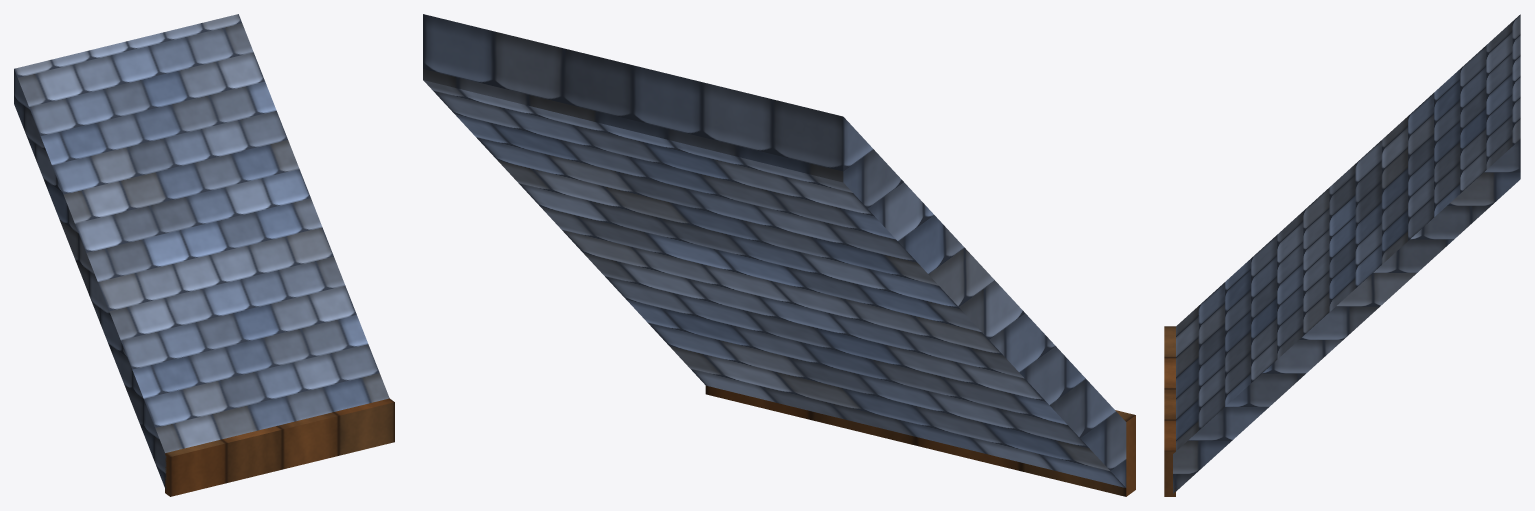
Rendered from roof_slate_slope_2m.glb.
3 views of the same model, side by side, from view 1: azimuth 30°, elevation 25°; view 2: azimuth 150°, elevation 25°; view 3: azimuth 270°, elevation 25° (orthographic). The views are drawn at different scales.
Visible parts, largest first — view 1: roof_slate_slope_2m; view 2: roof_slate_slope_2m; view 3: roof_slate_slope_2m.
Part boxes in pixels (box(x1,y1,x2,y2)): roof_slate_slope_2m: box(14, 14, 394, 496); roof_slate_slope_2m: box(423, 14, 1135, 496); roof_slate_slope_2m: box(1164, 14, 1520, 496).
Bounding box in the file's own units: 2 × 2.67 × 2.41.
Materials: 2 (2 with a texture image).
